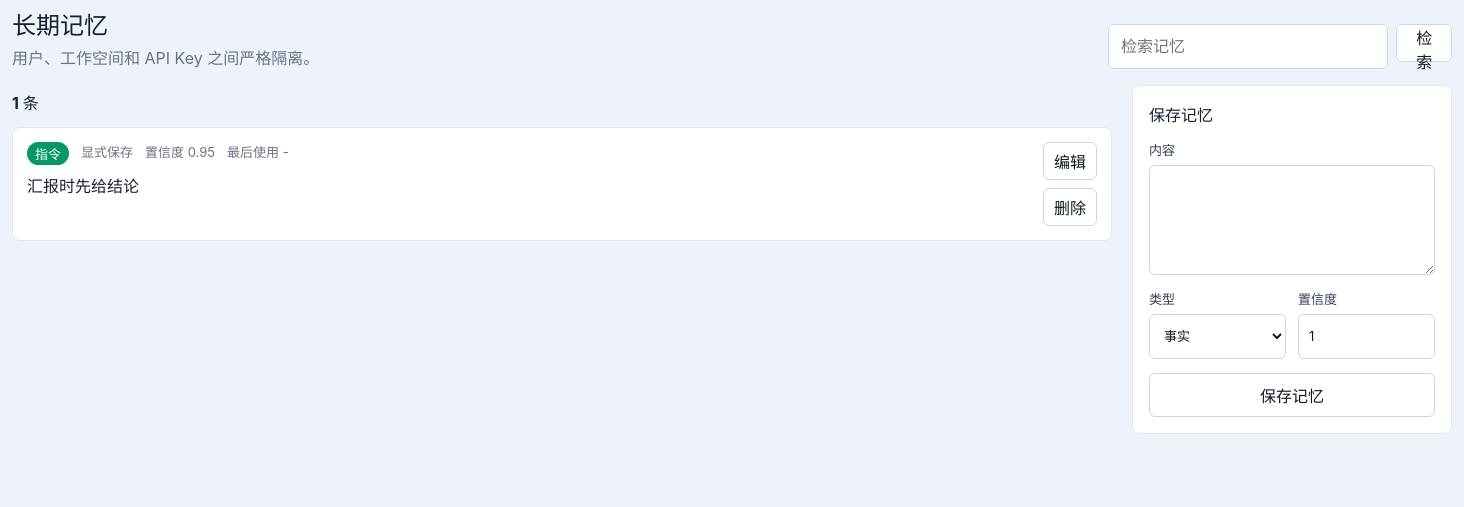
Test: MemoryPanel › edits and deletes memory
Click the button "编辑": (1070, 161) [1043,142,1097,180]
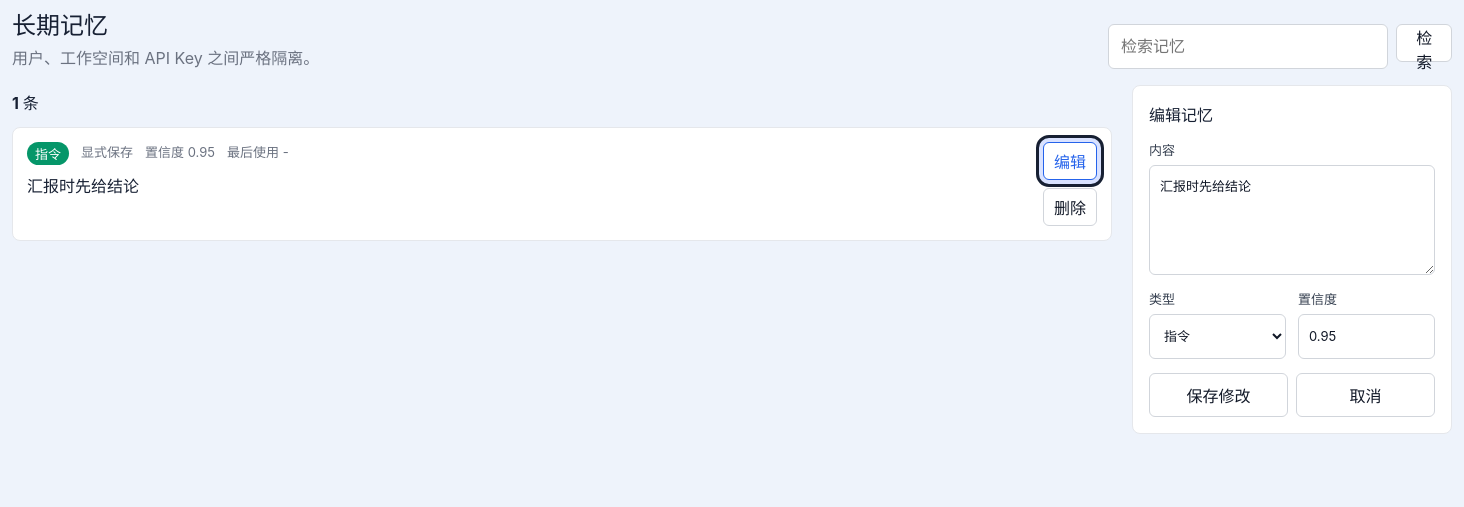
Now the text box labelled "内容" holds "汇报时先给结论"
Replace the text in the text box labelled "内容" with "先给结论再展开": (1292, 220) [1149,165,1435,275]
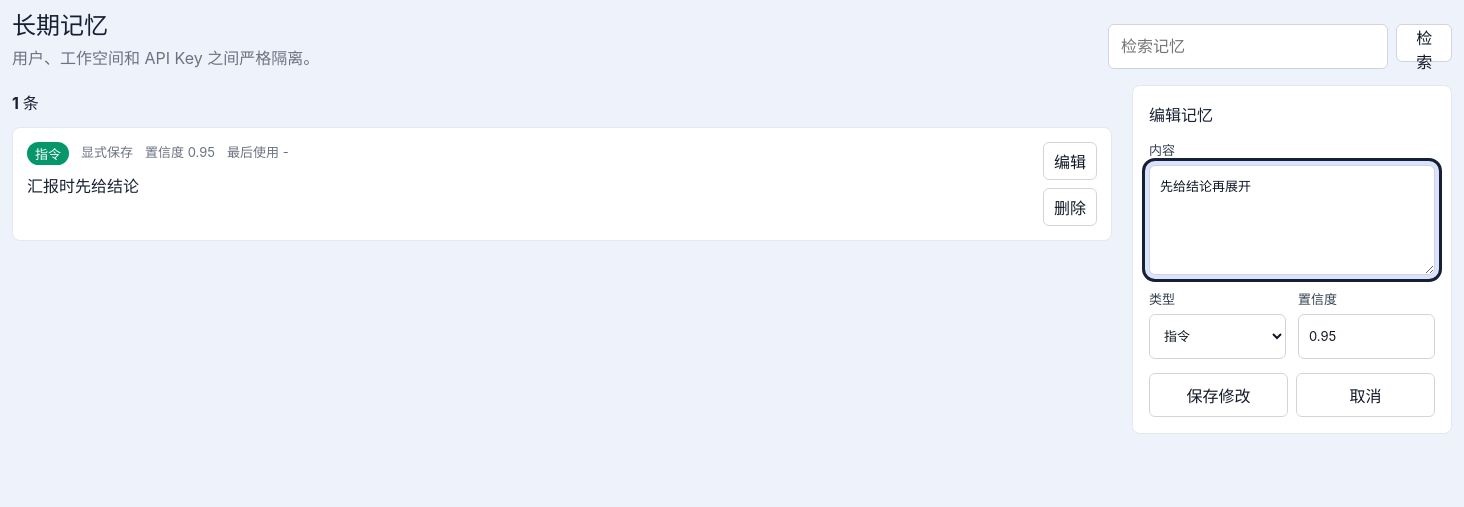
Click the button "保存修改": (1218, 395) [1149,373,1288,417]
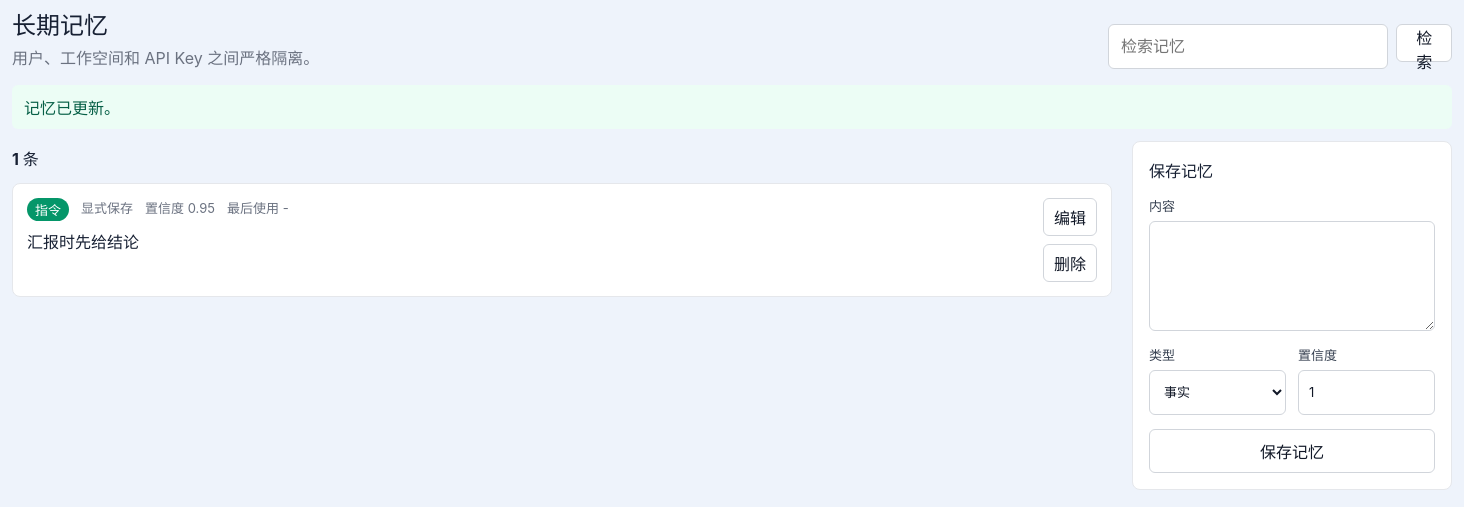
Click the button "删除": (1070, 263) [1043,244,1097,282]
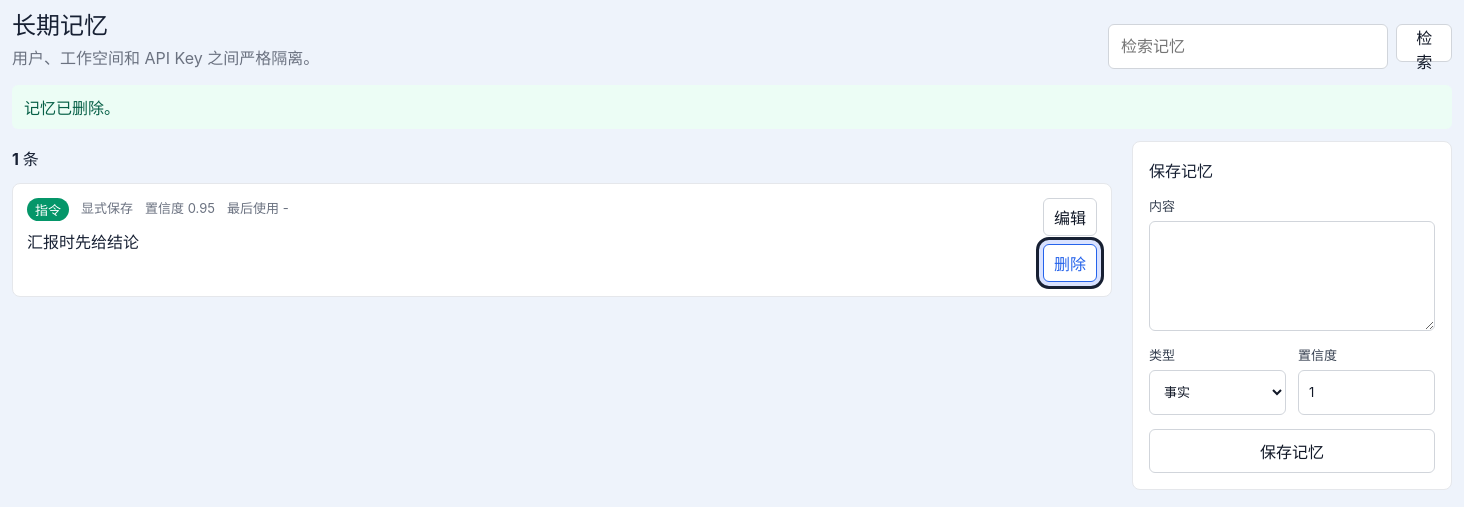
Now the text "记忆已删除。" is shown, box [12,85,1452,129]
